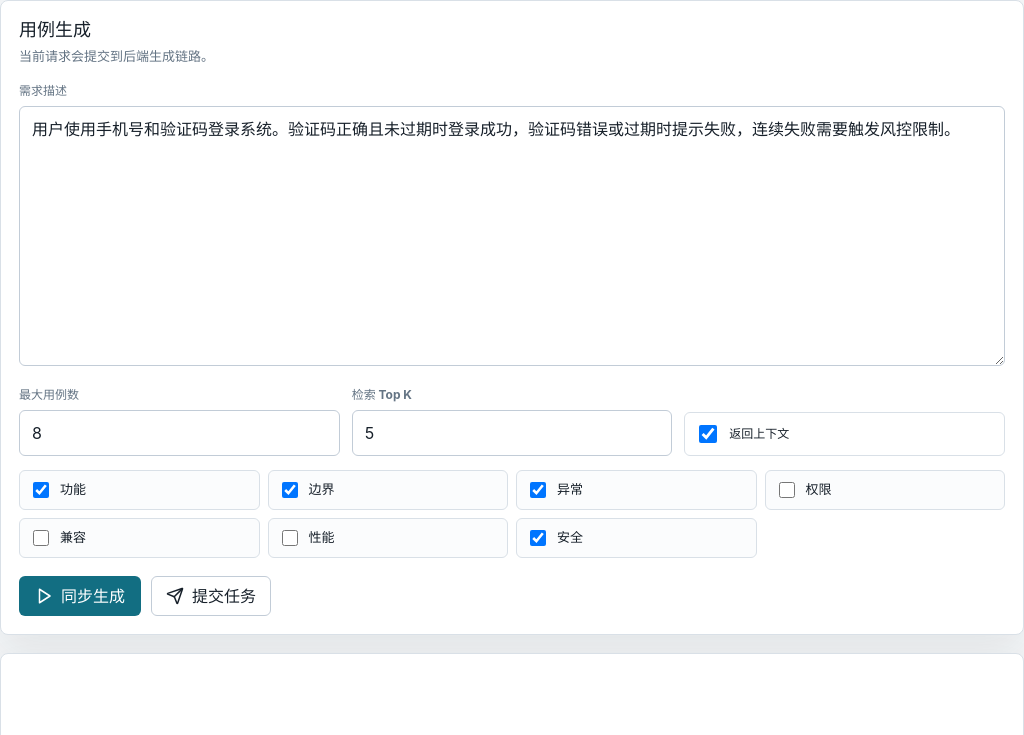
panel behavior › normalizes sync generation requests and submits async generation jobs
The width and height of the screenshot is (1024, 735).
Replace the text in the text box labelled "需求描述" with "  新登录需求  ": (512, 236) 19,106 -> 1005,366
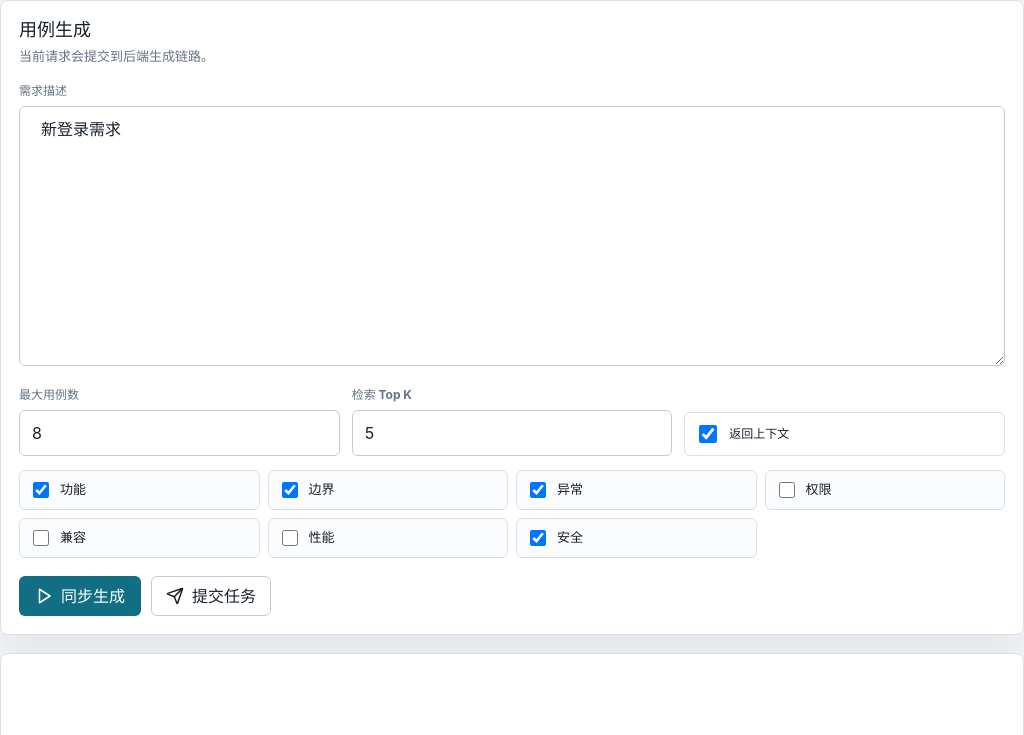
Click the button "同步生成": (80, 596) 19,576 -> 141,616
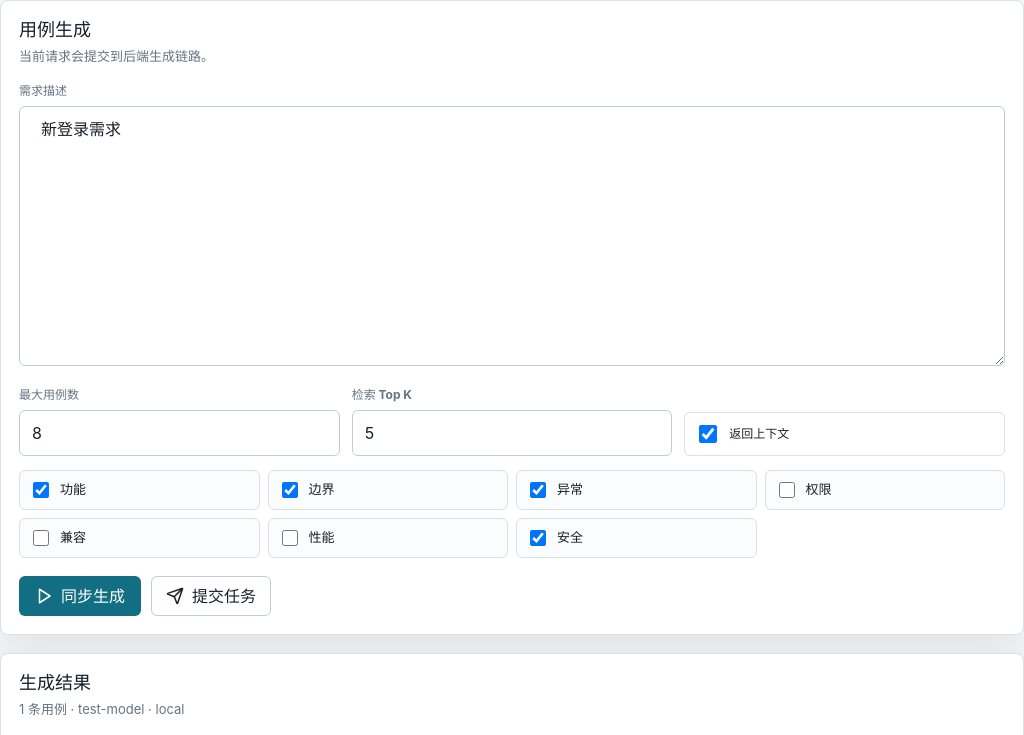
Click the button "提交任务": (211, 596) 151,576 -> 271,616
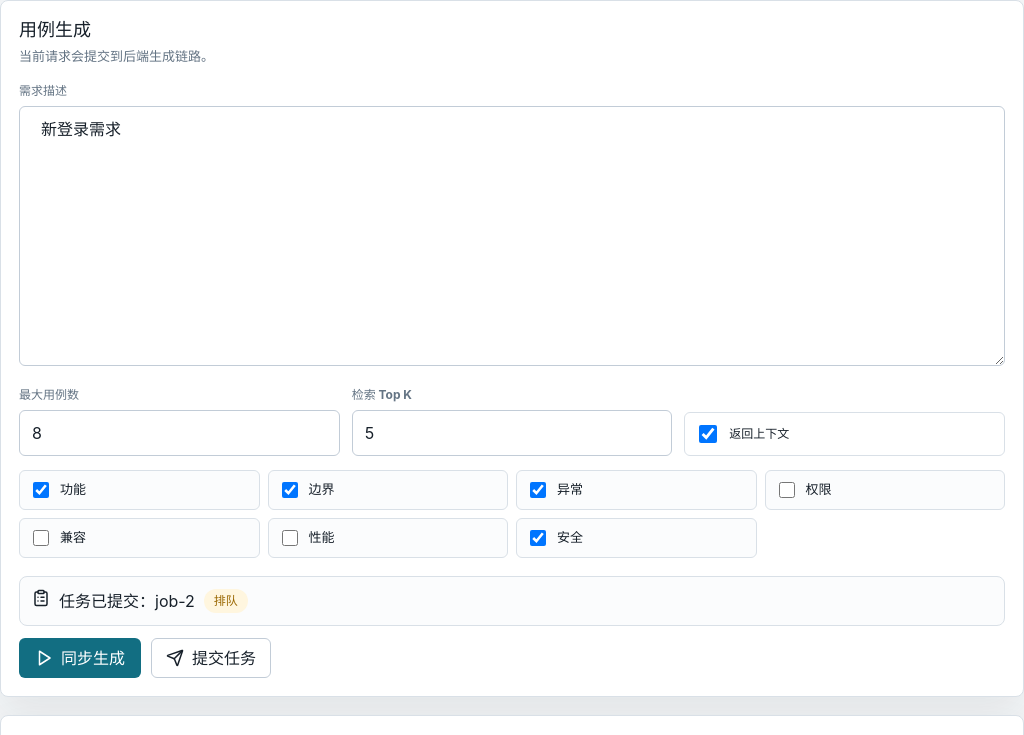
Now the text "任务已提交：job-2" is shown, box 59,589 -> 195,613
